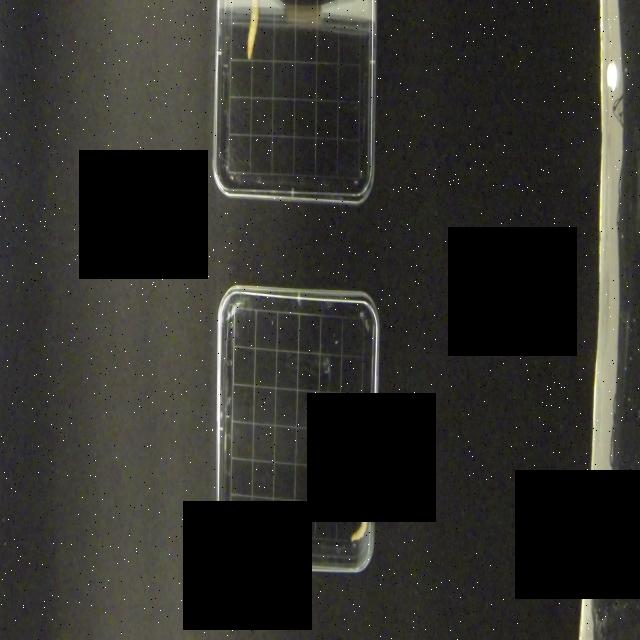larva: (242, 0, 264, 63), (349, 501, 371, 548)
